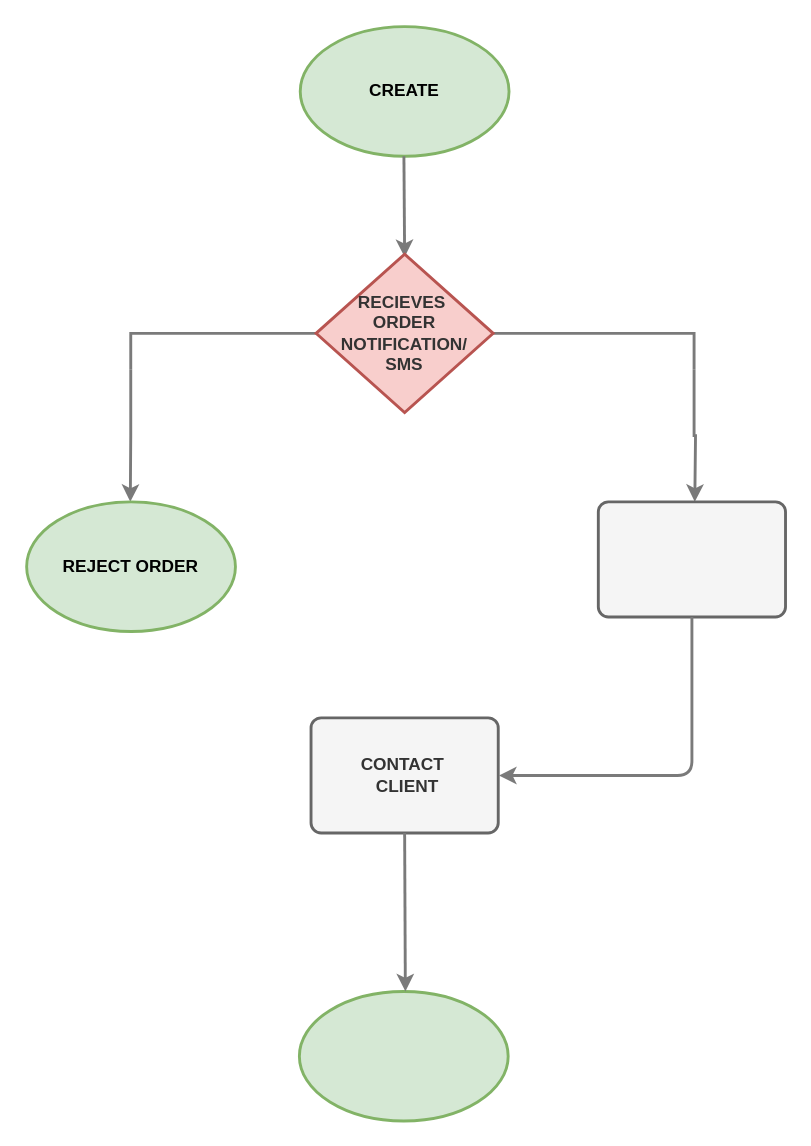
Image size: 811x1146. Some labels were removed from this diagram. Each missing label, with the box of its shape:
ACCEPT ORDER: (596, 500, 786, 618)
ENTER CONFIRMATION CODE FROM CLIENT: (297, 989, 509, 1122)
